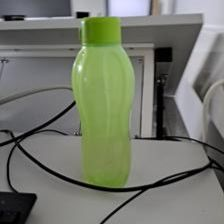bottle: (73, 12, 138, 191)
